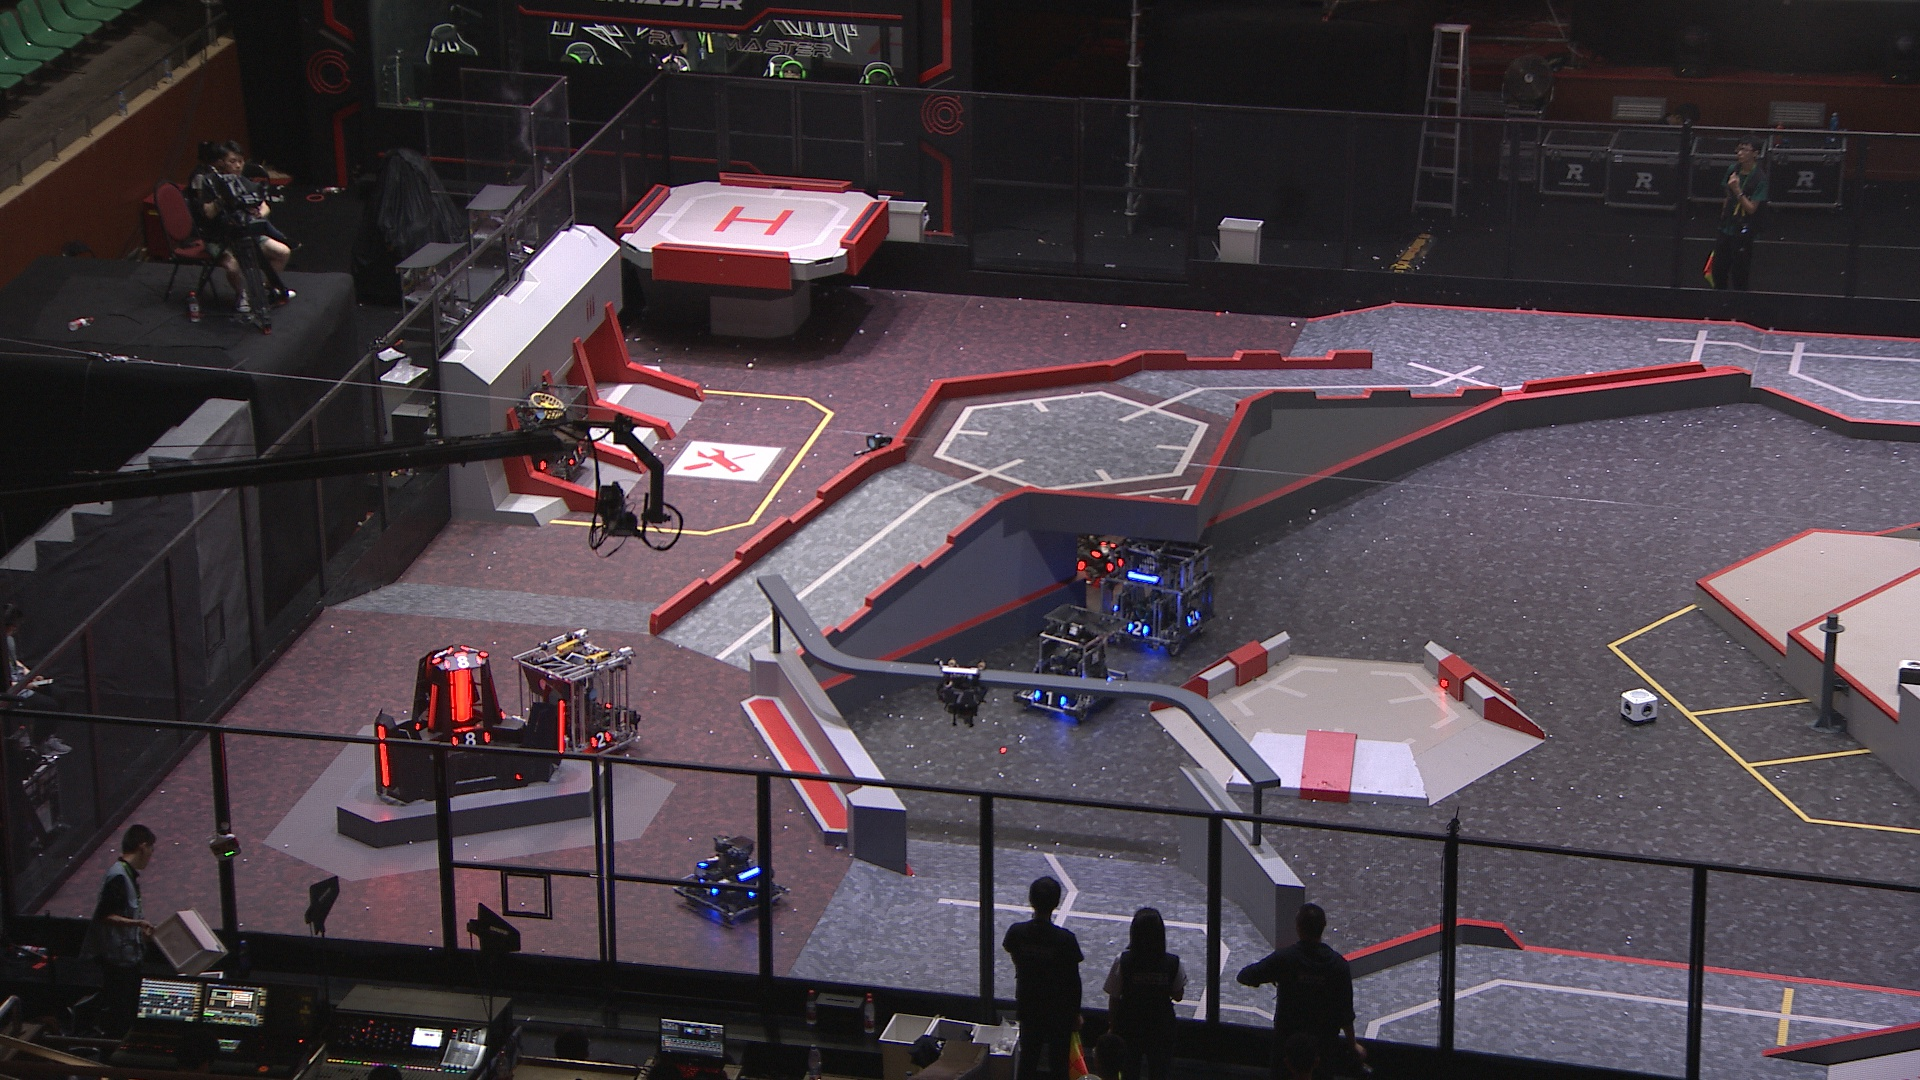armor: (447, 670, 475, 719), (376, 723, 390, 789), (447, 731, 493, 749), (440, 654, 485, 670), (425, 683, 440, 728), (1034, 688, 1067, 709), (939, 690, 975, 707), (556, 702, 567, 756), (1125, 618, 1153, 638), (694, 878, 721, 897), (589, 731, 613, 750), (566, 446, 585, 469), (1091, 542, 1117, 556), (430, 647, 454, 662), (1102, 556, 1126, 571), (1187, 608, 1203, 626), (699, 855, 719, 868)
base: (368, 645, 570, 803)
car: (513, 626, 644, 765), (1097, 541, 1218, 657), (1015, 603, 1129, 717), (667, 833, 794, 930), (493, 386, 593, 487), (1054, 517, 1131, 585)
watcher: (934, 659, 988, 727)
